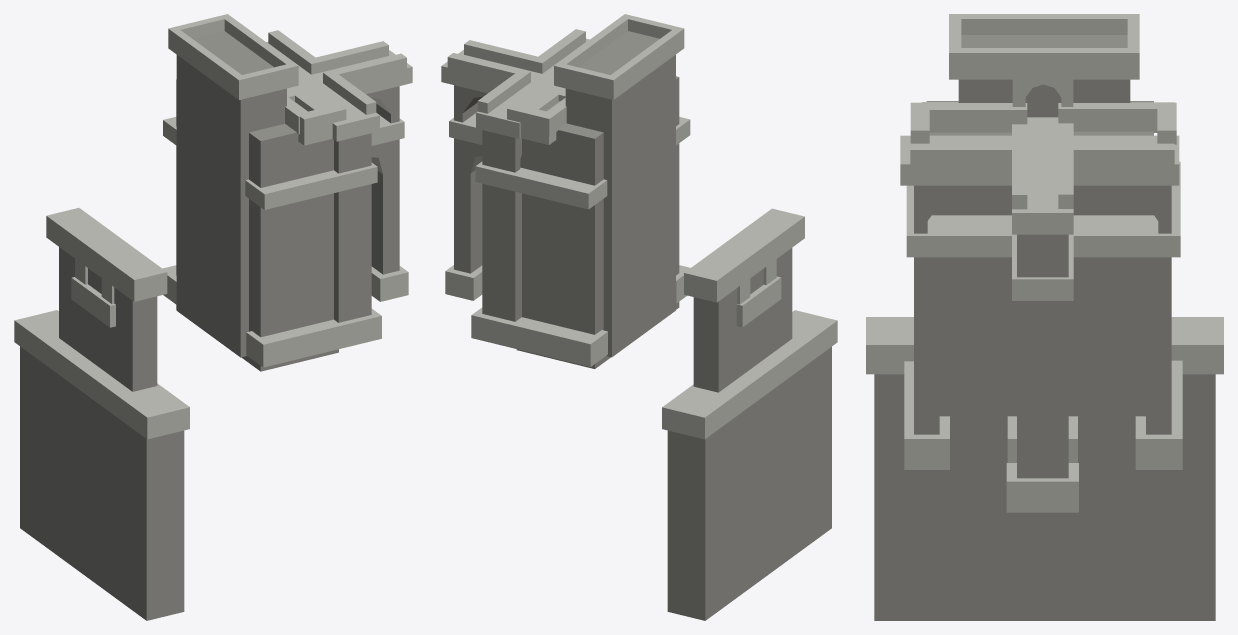
Rendered from noria.fbx.
The picture shows the model from 3 angles, left to right: view 1: azimuth 30°, elevation 25°; view 2: azimuth 150°, elevation 25°; view 3: azimuth 270°, elevation 25°; orthographic projection. The views are drawn at different scales.
Visible parts, largest first — view 1: polySurface459; view 2: polySurface459; view 3: polySurface459.
Part boxes in pixels (x1,y1,x2,y2): polySurface459: (14, 14, 412, 620); polySurface459: (441, 14, 837, 620); polySurface459: (866, 14, 1223, 620).
Size of the model in its own units: 193 by 283 by 139.
1 material, 1 textured.
